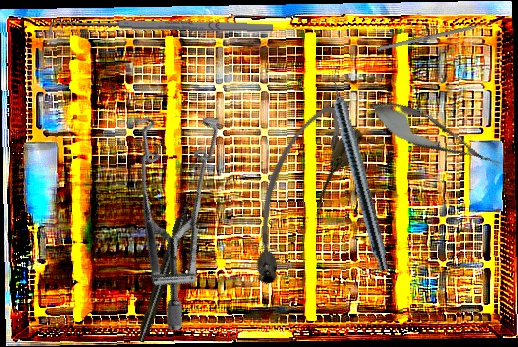Cannula: (223, 96, 369, 294)
Handpiece: (322, 64, 396, 273), (134, 196, 197, 344)
Hook Surgical: (48, 16, 274, 42)
Micro Scissor: (361, 90, 509, 182)
Pusher: (377, 18, 501, 52)
Speculum: (51, 81, 290, 334)
